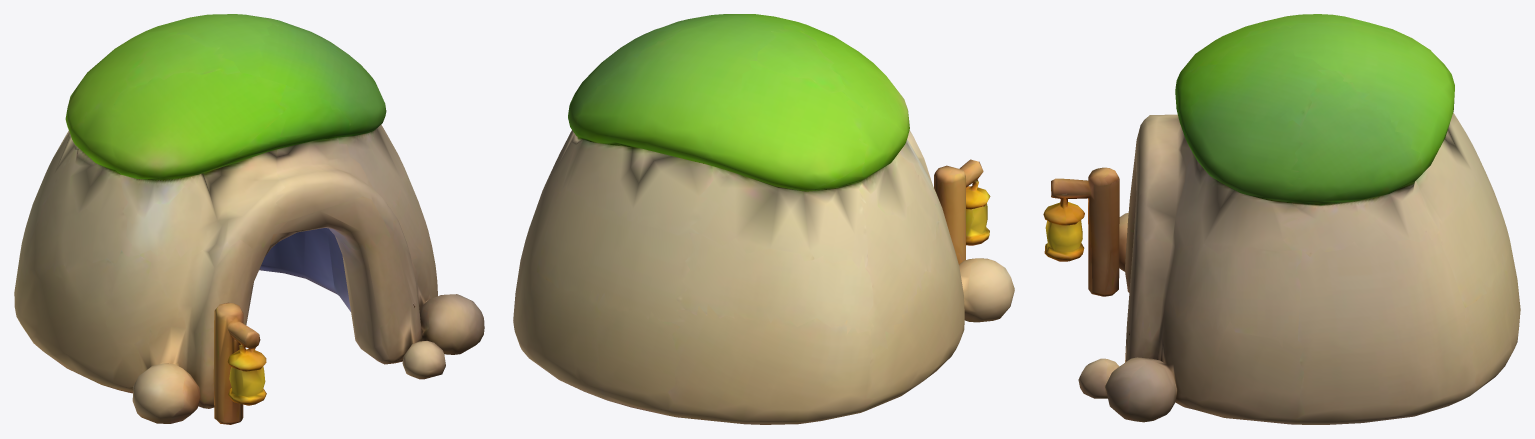
File: cave-entrance.glb
3 renders of one model, left to right at view 1: azimuth 30°, elevation 25°; view 2: azimuth 150°, elevation 25°; view 3: azimuth 270°, elevation 25°, orthographic. The views are drawn at different scales.
Parts seen in each view (by area): view 1: tripo_node_93de0bd2-dd25-467f-8c56-7f119f9582d9; view 2: tripo_node_93de0bd2-dd25-467f-8c56-7f119f9582d9; view 3: tripo_node_93de0bd2-dd25-467f-8c56-7f119f9582d9.
Boxes of the visible parts, x1,y1,x2,y2 form: tripo_node_93de0bd2-dd25-467f-8c56-7f119f9582d9: (14, 14, 484, 424); tripo_node_93de0bd2-dd25-467f-8c56-7f119f9582d9: (513, 14, 1014, 424); tripo_node_93de0bd2-dd25-467f-8c56-7f119f9582d9: (1043, 14, 1520, 424).
Bounding box in the file's own units: 0.9189 × 0.7128 × 0.9993.
1 material, 1 textured.
